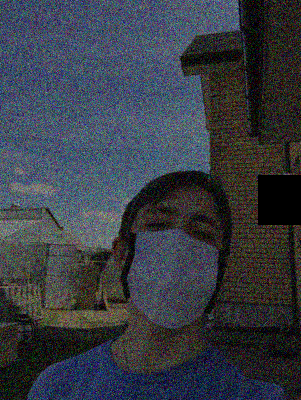with_mask: (120, 203, 225, 330)
